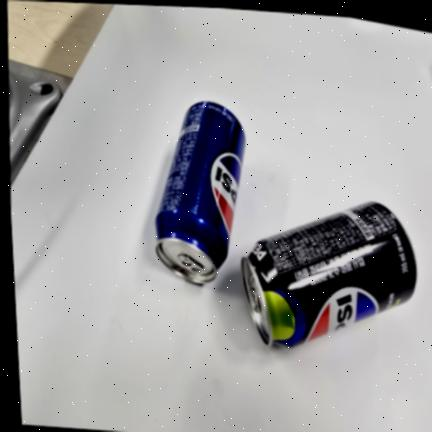can_pepsi: (155, 101, 246, 283)
can_pepsi_zero: (241, 201, 417, 347)
